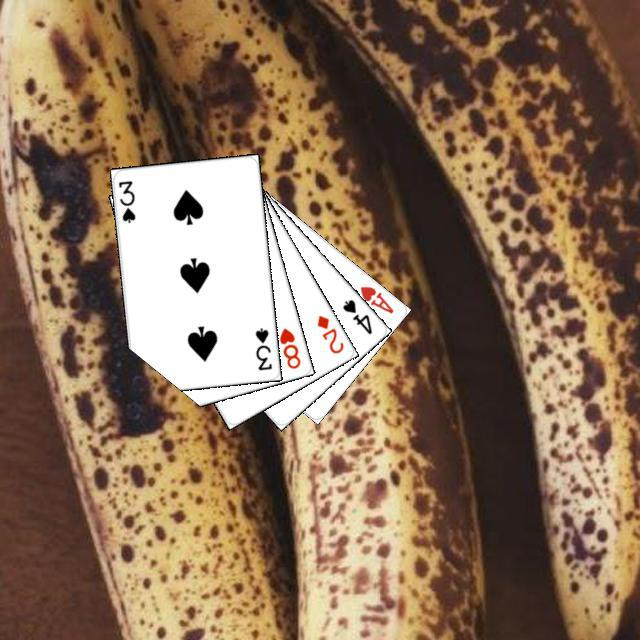2d: (312, 310, 345, 355)
3s: (250, 323, 274, 372), (113, 176, 137, 224)
4s: (337, 294, 374, 336)
8h: (274, 323, 302, 370)
Ah: (355, 281, 395, 315)
